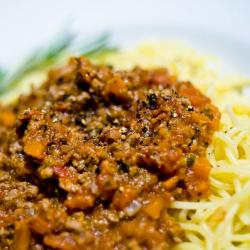bolonese_pasta: (21, 52, 250, 246)
